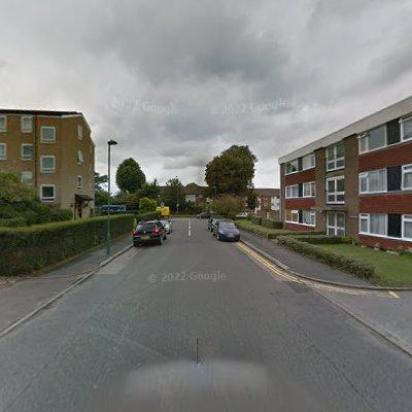moving-car: (196, 211, 216, 219), (234, 211, 250, 221)
moving-light-truck: (96, 205, 126, 215)
stationary-car-onstreet: (132, 221, 166, 247), (212, 220, 240, 242), (208, 216, 226, 234), (152, 218, 172, 234)
